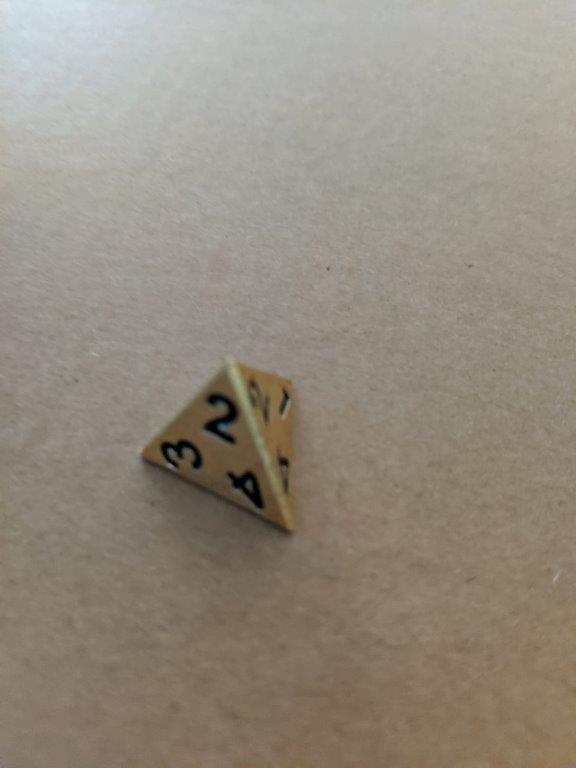d4-2: (133, 353, 305, 541)
